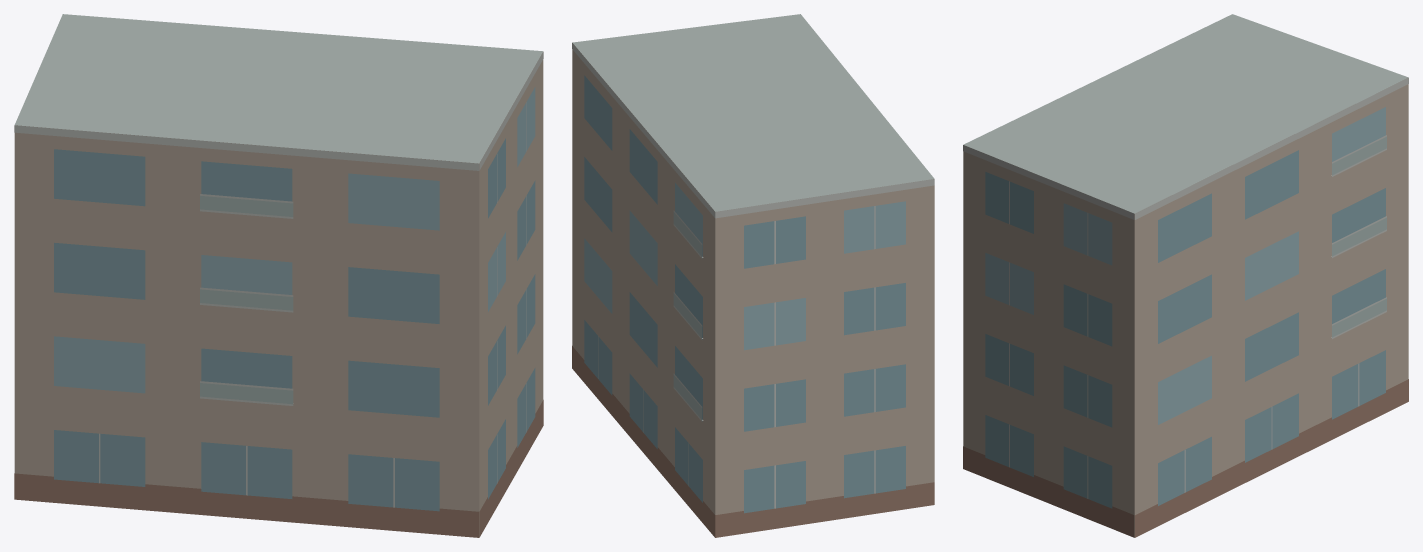
Rendered from survey-upis-32568476.glb.
The picture shows the model from 3 angles, left to right: view 1: azimuth 30°, elevation 25°; view 2: azimuth 150°, elevation 25°; view 3: azimuth 270°, elevation 25°; orthographic projection. The views are drawn at different scales.
Visible parts, largest first — view 1: survey-upis-32568476.tmp; view 2: survey-upis-32568476.tmp; view 3: survey-upis-32568476.tmp.
Part boxes in pixels (x1=…): survey-upis-32568476.tmp: x1=14, y1=14, x2=543, y2=537; survey-upis-32568476.tmp: x1=572, y1=14, x2=934, y2=537; survey-upis-32568476.tmp: x1=963, y1=14, x2=1408, y2=537.
Size of the model in its own units: 16.13 by 12.2 by 15.21.
